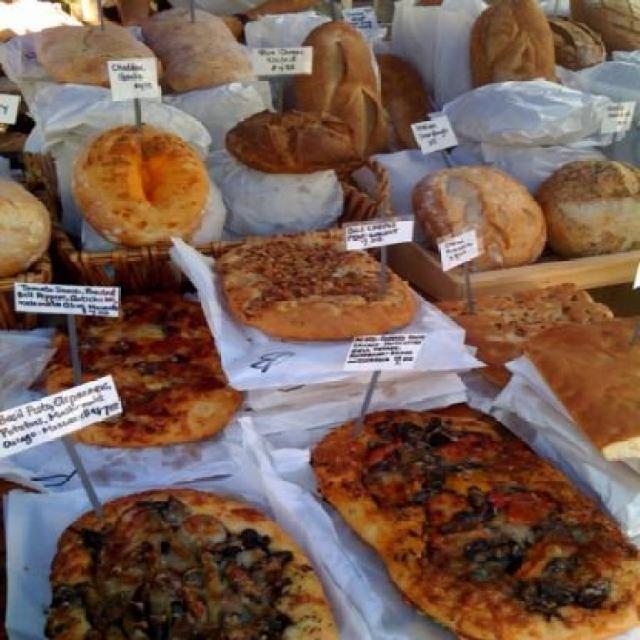Bagel: (68, 122, 210, 246)
